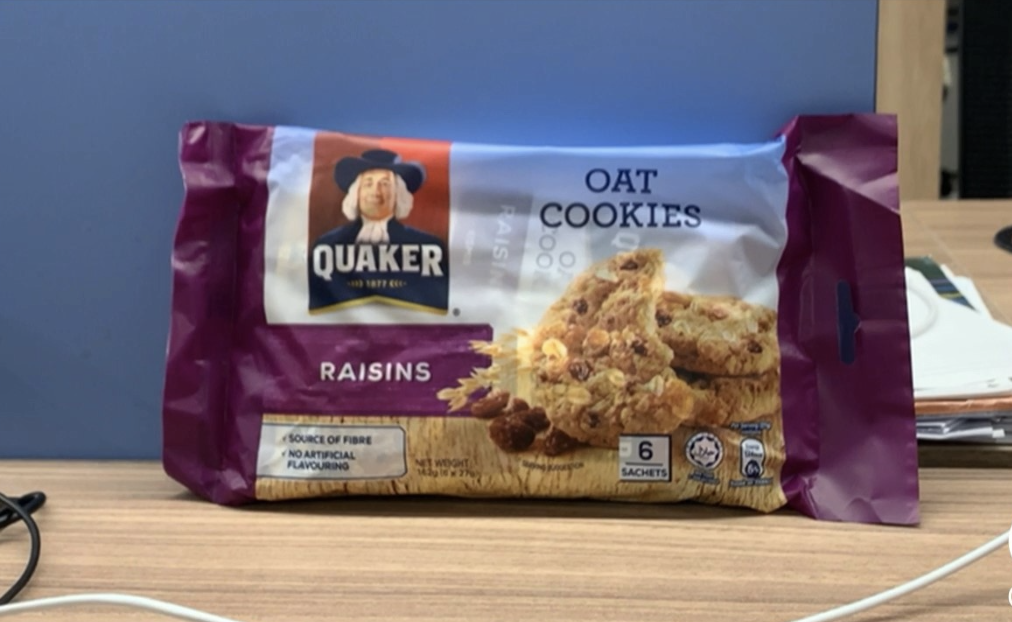cookies_150g: (227, 157, 780, 483)
